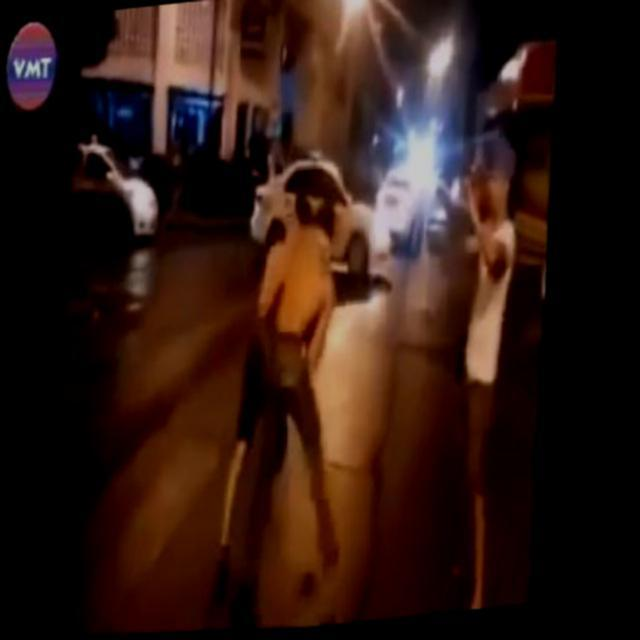fight: (201, 195, 372, 578)
non-fight: (432, 130, 566, 635)
